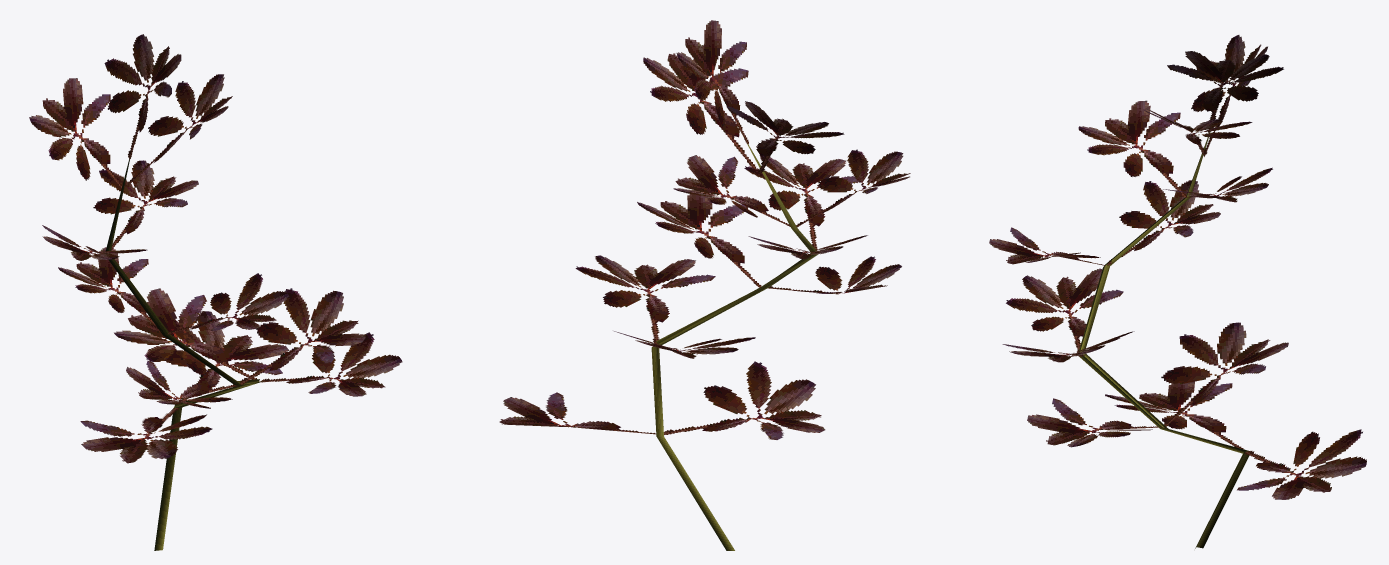
Rendered from Plant3.obj.
The picture shows the model from 3 angles, left to right: view 1: azimuth 30°, elevation 25°; view 2: azimuth 150°, elevation 25°; view 3: azimuth 270°, elevation 25°; orthographic projection. The views are drawn at different scales.
Size of the model in its own units: 14.82 by 21.65 by 14.9.
Materials: 2 (2 with a texture image).
